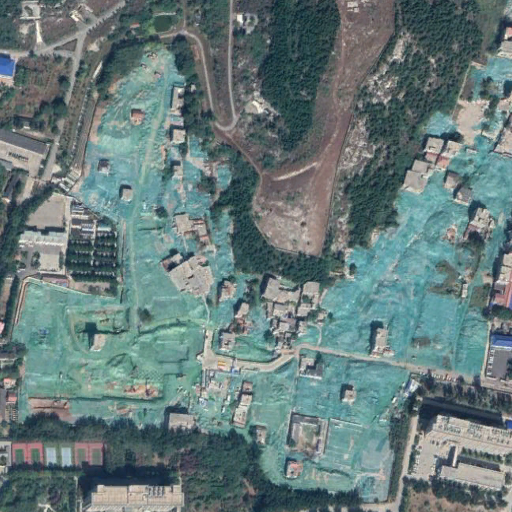cw: (11, 47, 512, 501)
